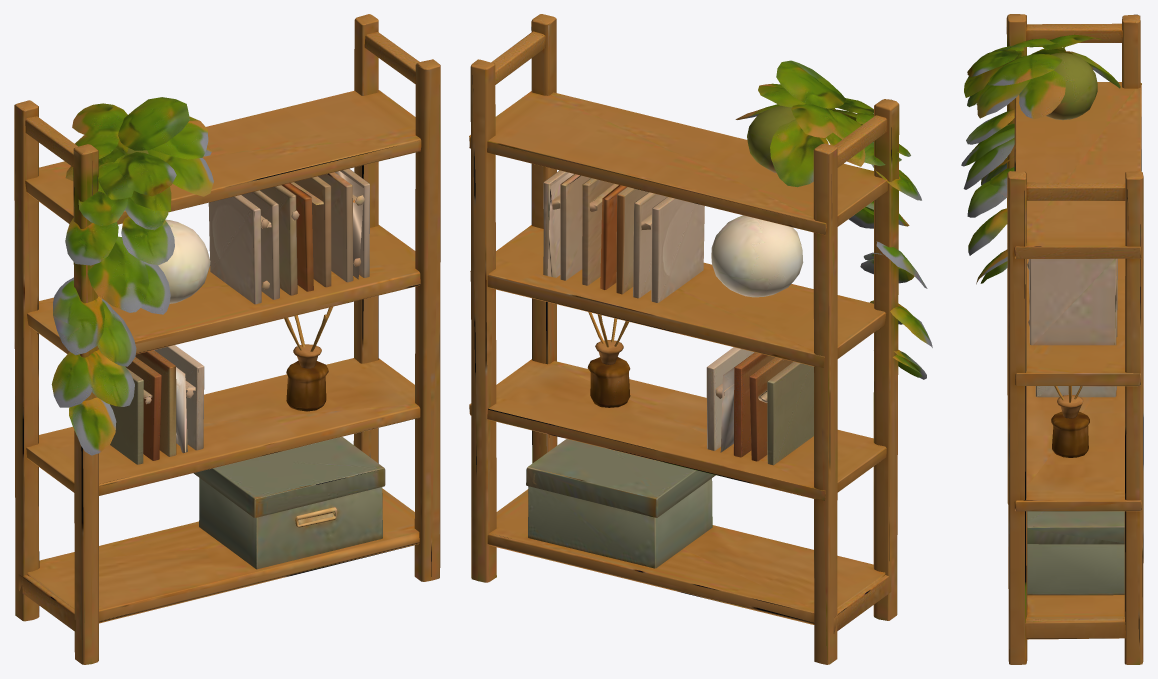
The model's file is bookcase.open.glb.
3 views of the same model, side by side, from view 1: azimuth 30°, elevation 25°; view 2: azimuth 150°, elevation 25°; view 3: azimuth 270°, elevation 25° (orthographic). The views are drawn at different scales.
Visible parts, largest first — view 1: geometry_0; view 2: geometry_0; view 3: geometry_0.
Part boxes in pixels (left/top/right/bottom): geometry_0: left=14, top=14, right=440, bottom=664; geometry_0: left=469, top=14, right=932, bottom=664; geometry_0: left=961, top=14, right=1143, bottom=664.
Size of the model in its own units: 0.769 by 1 by 0.3292.
Materials: 1 (1 with a texture image).
